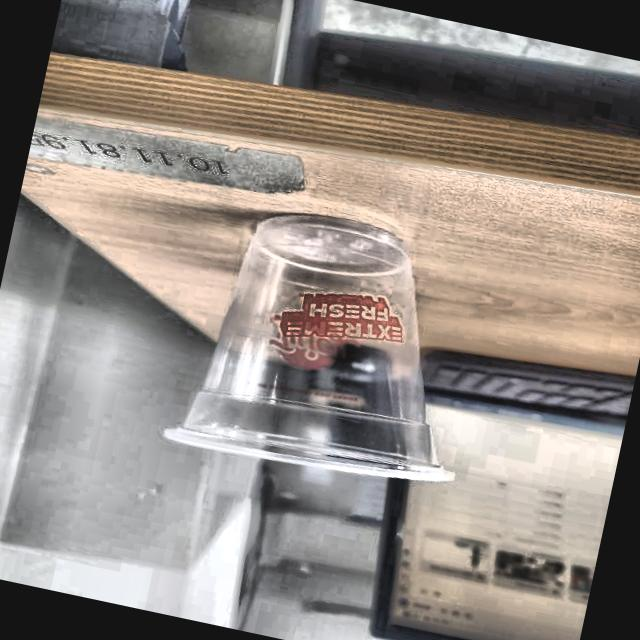plastic cup: (159, 194, 501, 501)
